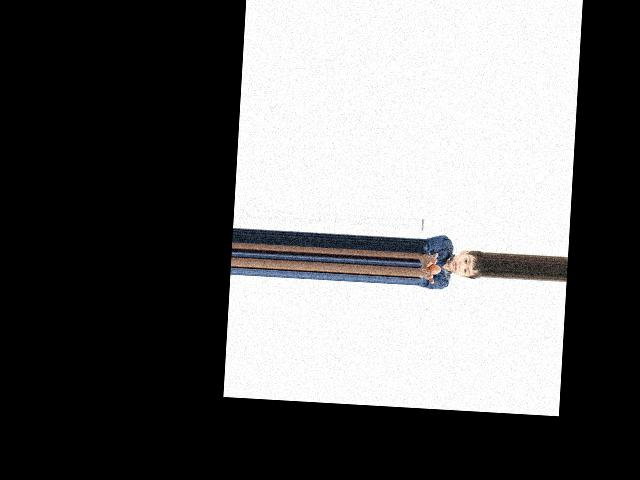egg: (427, 263, 440, 274)
